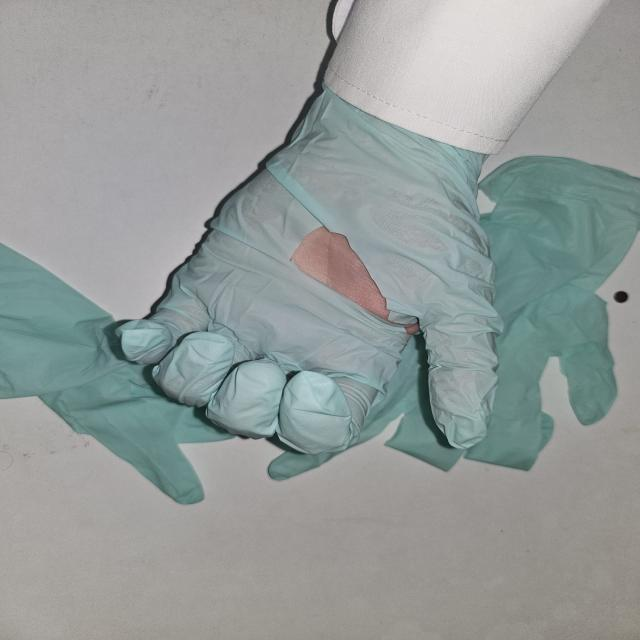gloves_damaged: (113, 94, 510, 456)
